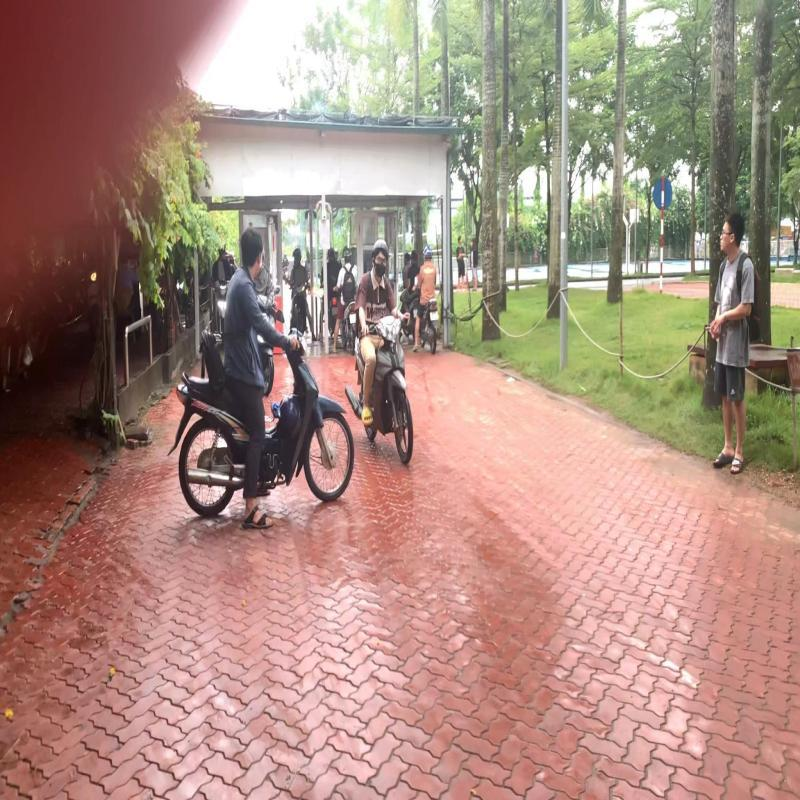nohelmet: (240, 226, 266, 276)
